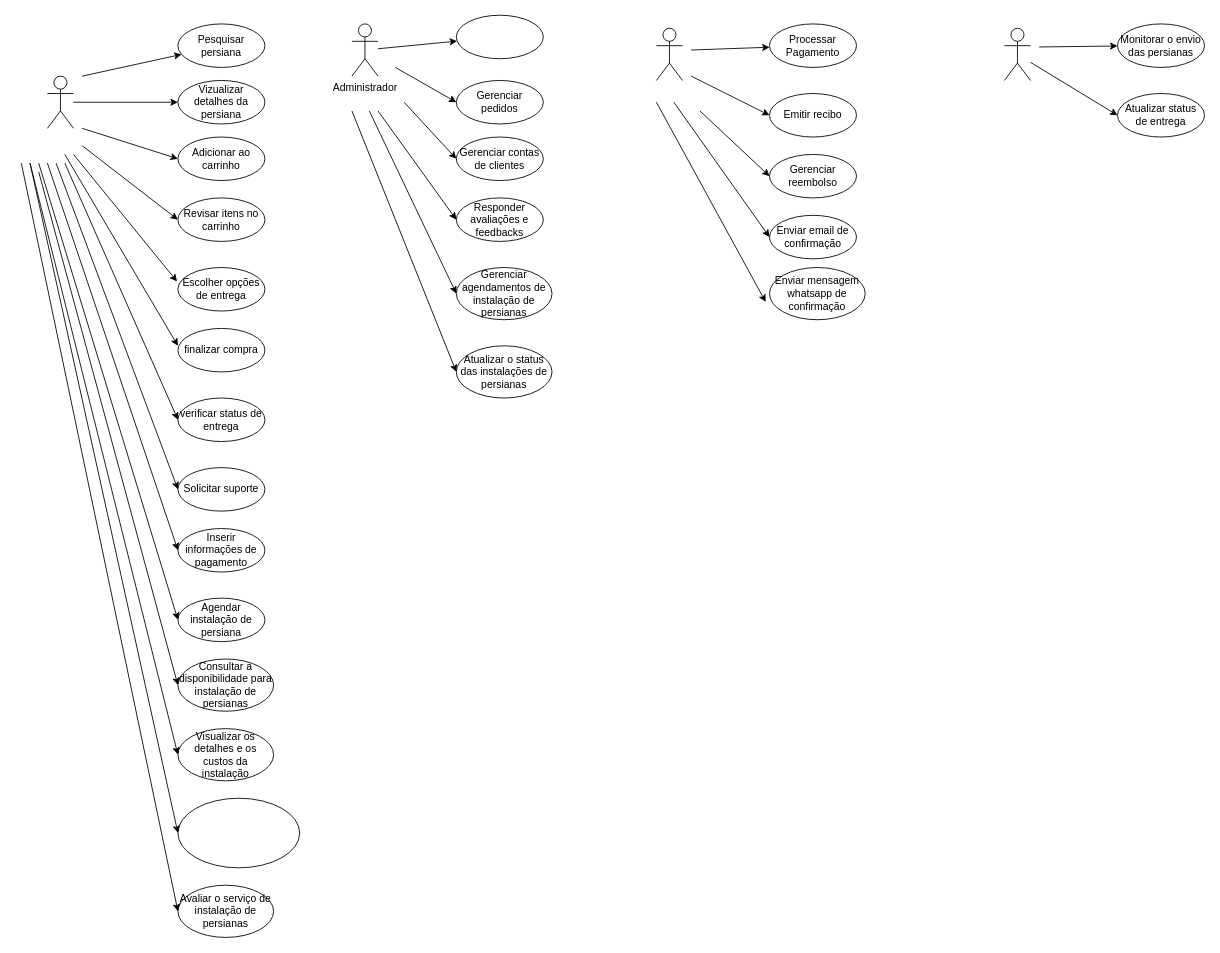
Image size: 1220x953. Some labels were removed from this diagram. The centre of each missing label's shape, as x and y in pixels:
"Acompanhar o status da minha solicitação de instalação" goes at point 238,832.
"Cliente" goes at point 60,101.
"Gerenciar catálogo de produtos" goes at point 499,36.
"Sistema de logística" goes at point 1017,53.
"Sistema de pagamento" goes at point 669,53.
